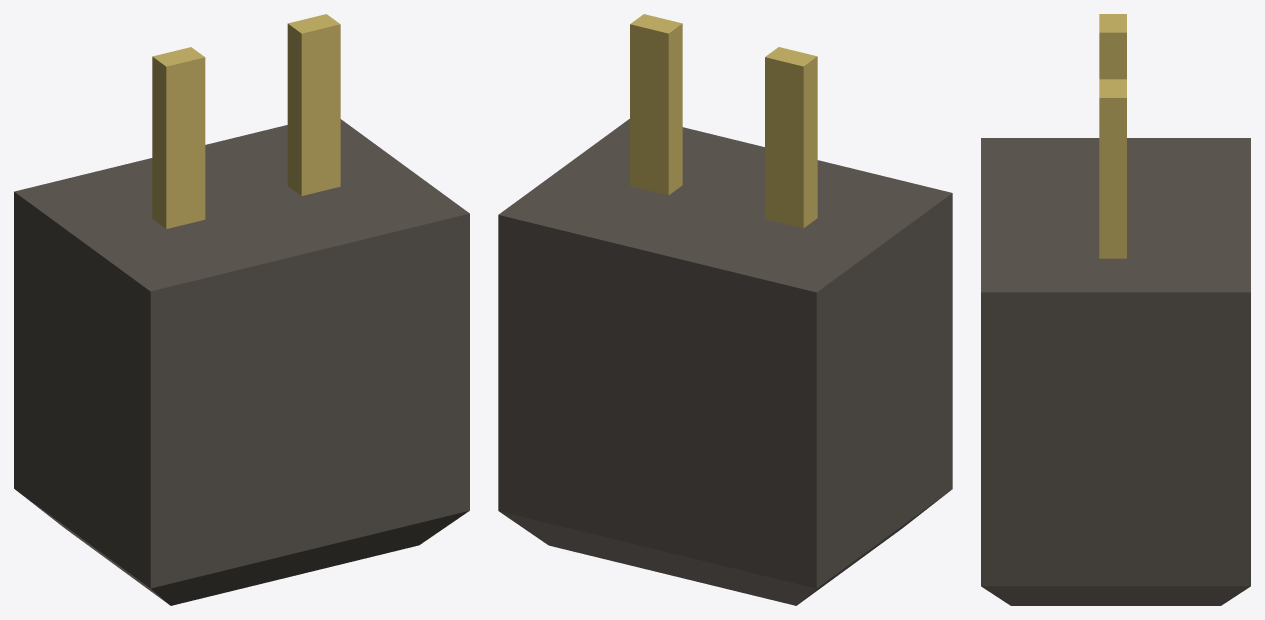
The model's file is F_plug_01 (1).fbx.
The picture shows the model from 3 angles, left to right: view 1: azimuth 30°, elevation 25°; view 2: azimuth 150°, elevation 25°; view 3: azimuth 270°, elevation 25°; orthographic projection.
Parts seen in each view (by area): view 1: plug; view 2: plug; view 3: plug.
Part boxes in pixels (x1,y1,x2,y2): plug: (14,14,469,605); plug: (498,14,952,605); plug: (981,14,1250,605).
Bounding box in the file's own units: 26.65 × 39.6 × 19.71.
